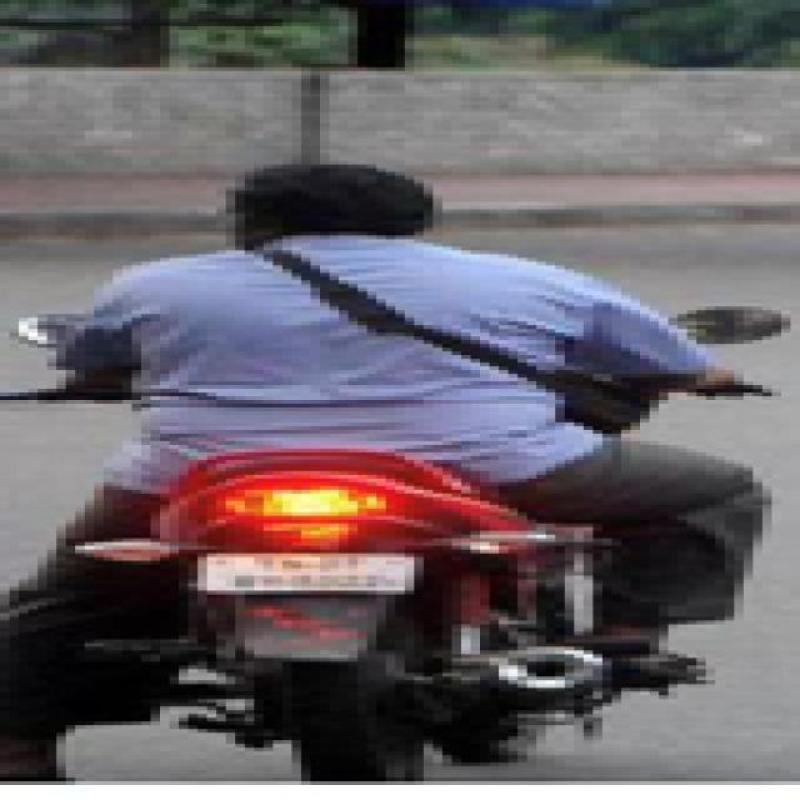nohelmet: (183, 132, 516, 260)
